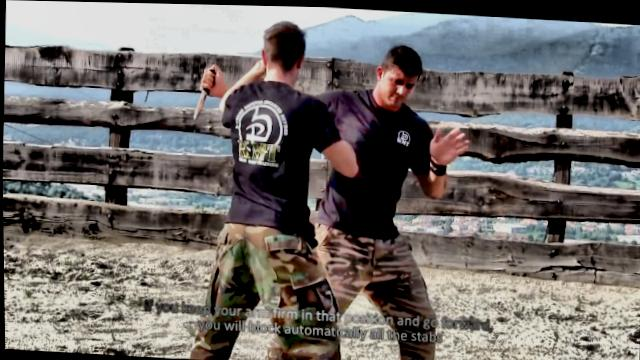knife: (185, 57, 223, 122)
